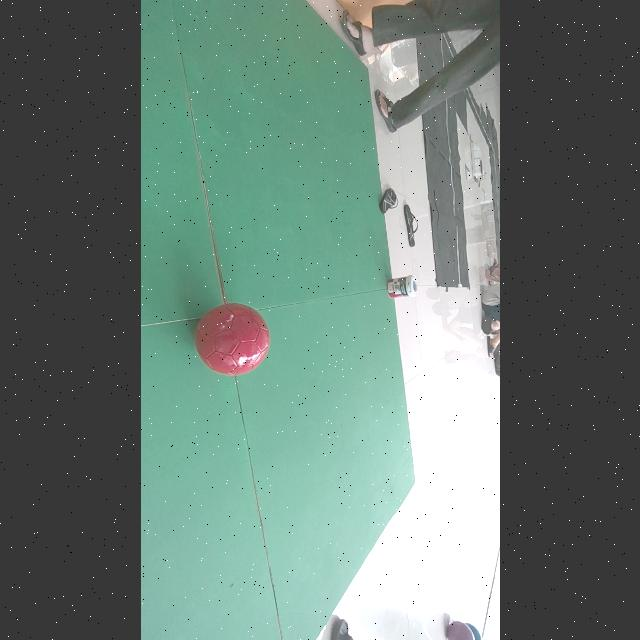R: (195, 304, 270, 375)
